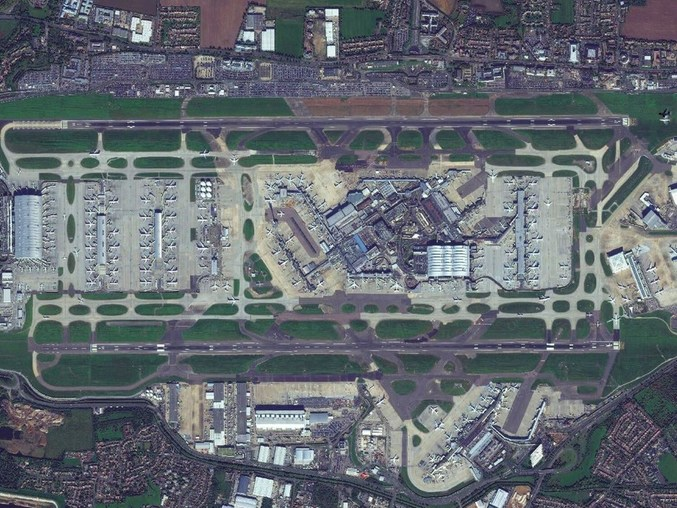aircraft: (374, 391, 390, 409), (433, 418, 447, 435), (525, 260, 543, 273), (293, 171, 307, 186), (526, 201, 540, 216), (487, 167, 498, 185), (196, 241, 210, 255), (163, 209, 178, 222), (534, 293, 553, 303), (139, 251, 152, 265), (164, 178, 177, 192), (531, 232, 545, 245), (307, 221, 319, 236), (526, 272, 541, 284), (646, 259, 658, 274), (138, 239, 151, 252), (262, 180, 275, 193), (502, 274, 515, 287), (653, 284, 666, 297), (390, 454, 403, 467), (139, 263, 153, 275), (163, 193, 176, 205), (165, 240, 178, 252), (196, 213, 209, 225), (263, 193, 275, 206), (556, 271, 569, 283), (83, 218, 97, 229), (224, 295, 238, 306), (222, 280, 233, 294), (283, 233, 297, 244), (273, 173, 285, 185), (390, 280, 402, 292), (557, 259, 569, 271), (609, 313, 621, 325), (648, 275, 660, 287), (44, 226, 56, 238), (467, 402, 479, 414), (84, 229, 95, 242), (85, 277, 98, 288), (139, 211, 152, 222), (527, 248, 540, 259), (620, 293, 633, 304), (429, 405, 440, 418), (83, 195, 97, 205), (83, 242, 97, 252), (138, 195, 152, 205), (450, 295, 465, 304), (108, 240, 120, 251), (88, 148, 101, 158), (138, 229, 151, 239), (165, 225, 178, 235), (165, 277, 178, 287), (314, 275, 324, 288), (137, 277, 151, 286), (196, 203, 207, 214), (264, 226, 275, 237), (502, 176, 513, 187), (451, 422, 462, 433), (84, 206, 96, 216), (199, 148, 211, 158), (107, 277, 119, 287), (278, 258, 290, 268), (349, 279, 359, 291), (502, 262, 514, 272), (502, 203, 514, 213), (527, 177, 537, 189), (607, 293, 617, 305), (71, 246, 81, 258), (478, 392, 488, 404), (219, 242, 232, 251), (286, 171, 295, 184), (614, 280, 627, 289), (45, 180, 58, 189), (85, 254, 96, 264), (229, 153, 239, 164), (108, 194, 118, 205), (290, 277, 301, 287), (317, 198, 327, 209), (504, 248, 514, 259), (509, 382, 520, 392), (75, 293, 85, 304), (165, 265, 177, 274), (210, 280, 219, 292), (543, 197, 552, 209), (632, 244, 641, 256), (527, 219, 537, 229), (85, 265, 94, 276), (269, 247, 280, 256), (108, 265, 117, 275), (276, 209, 286, 218), (332, 180, 343, 188), (496, 220, 505, 229), (427, 453, 436, 462), (108, 254, 119, 261), (60, 211, 67, 222), (306, 181, 314, 190), (14, 282, 23, 290), (109, 227, 117, 235)
